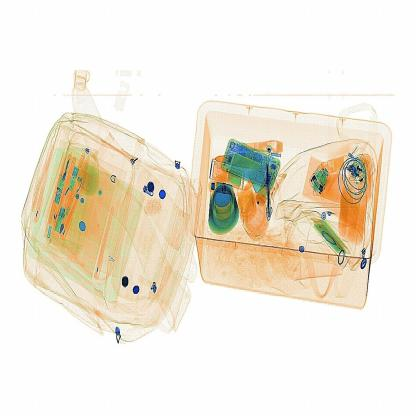knife: (262, 159, 276, 221)
